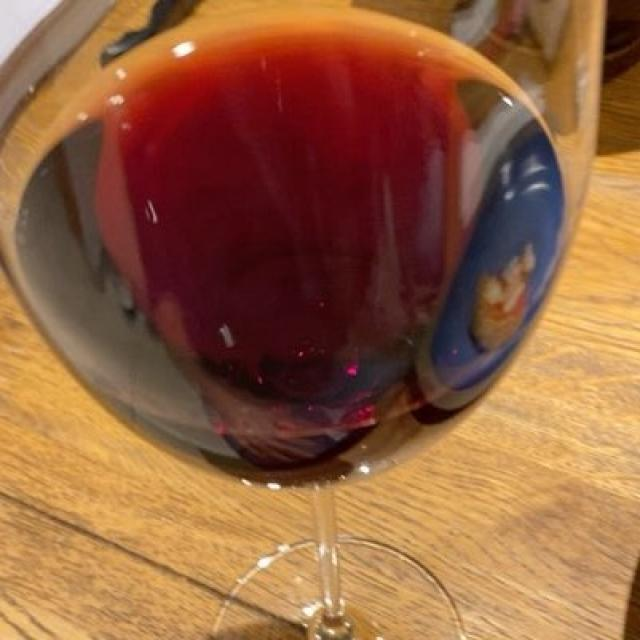wine: (3, 27, 561, 492)
